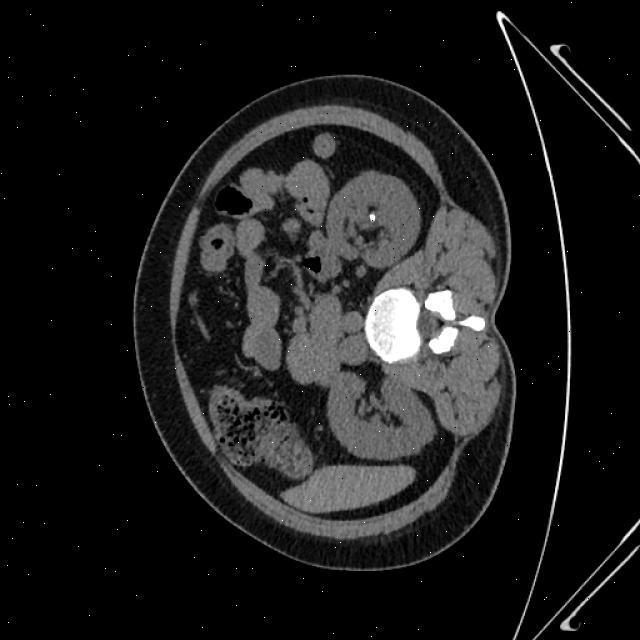kidneystone: (369, 206, 377, 221)
